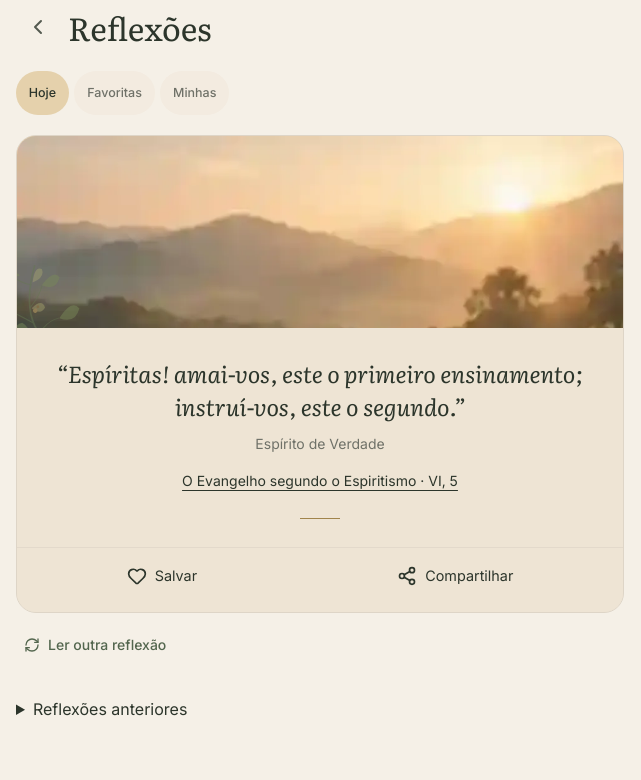
it: editorial product interactions › does not report success when favorite persistence fails
What coordinates should you click on to do the following:
click the button "Salvar"
I would click on:
 (162, 576)
Its box is [111,554,213,598].
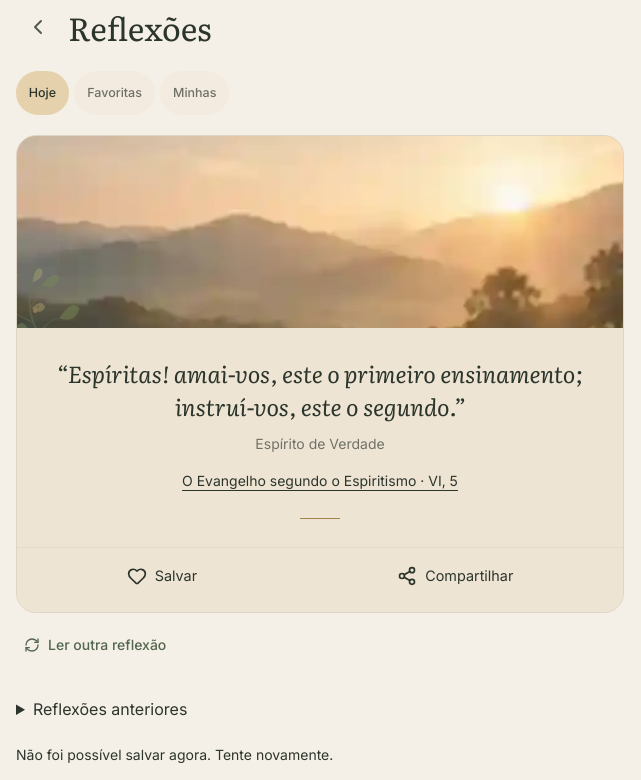
Expected: the text "Não foi possível salvar agora. Tente novamente." is shown, [16,746,333,763]
